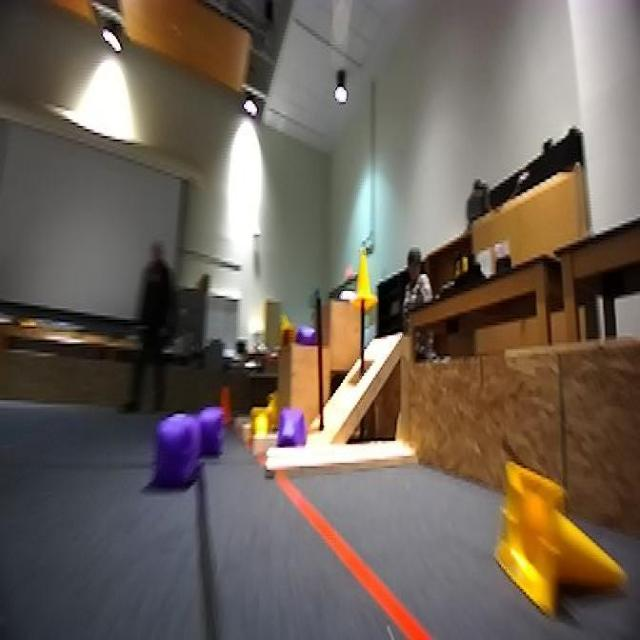frc_cone: (494, 456, 634, 601), (352, 242, 376, 304), (248, 409, 268, 427)
frc_cube: (152, 417, 204, 492), (198, 407, 226, 456), (274, 402, 303, 448), (300, 320, 319, 347)
